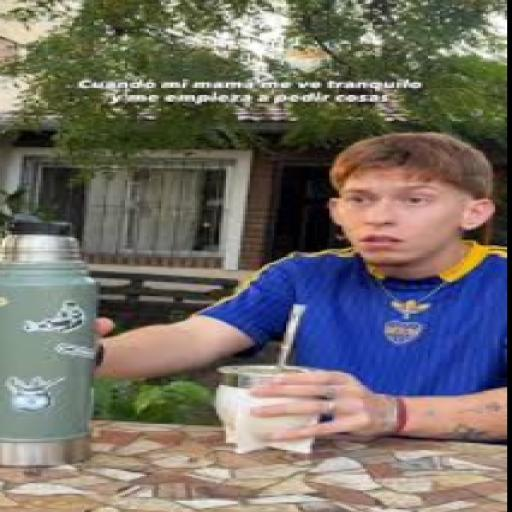mate: (214, 365, 317, 453)
termo: (0, 216, 96, 465)
